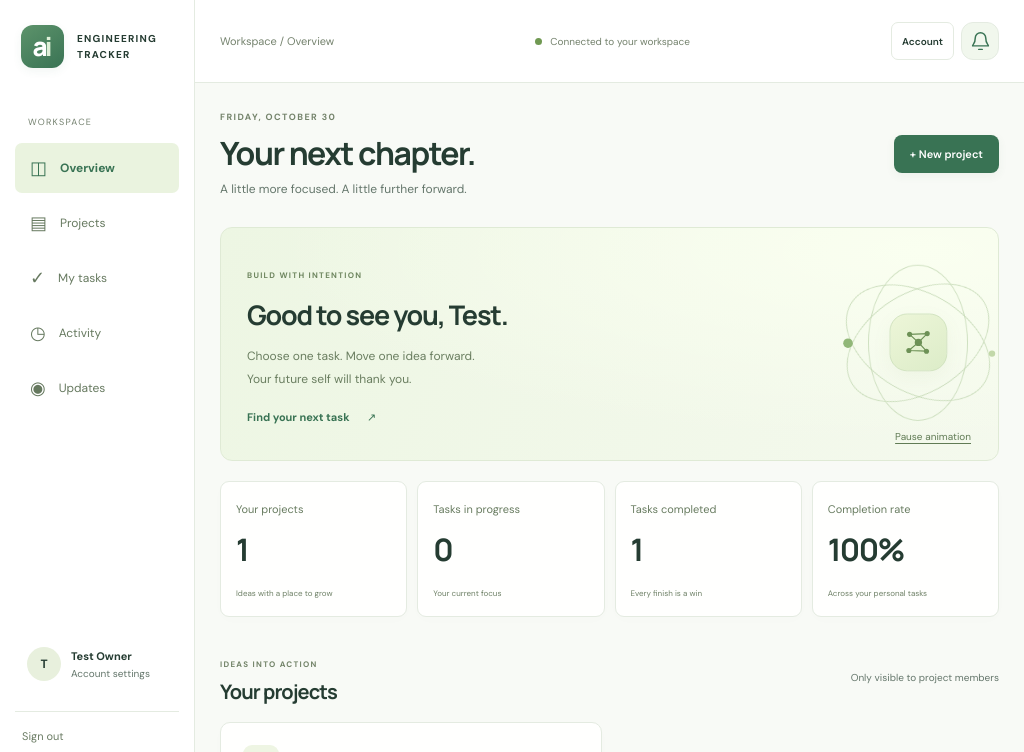
Test case: preserves animation controls, team view and task search
Click the button "Pause animation" at (933, 437), box [888,425,978,448]
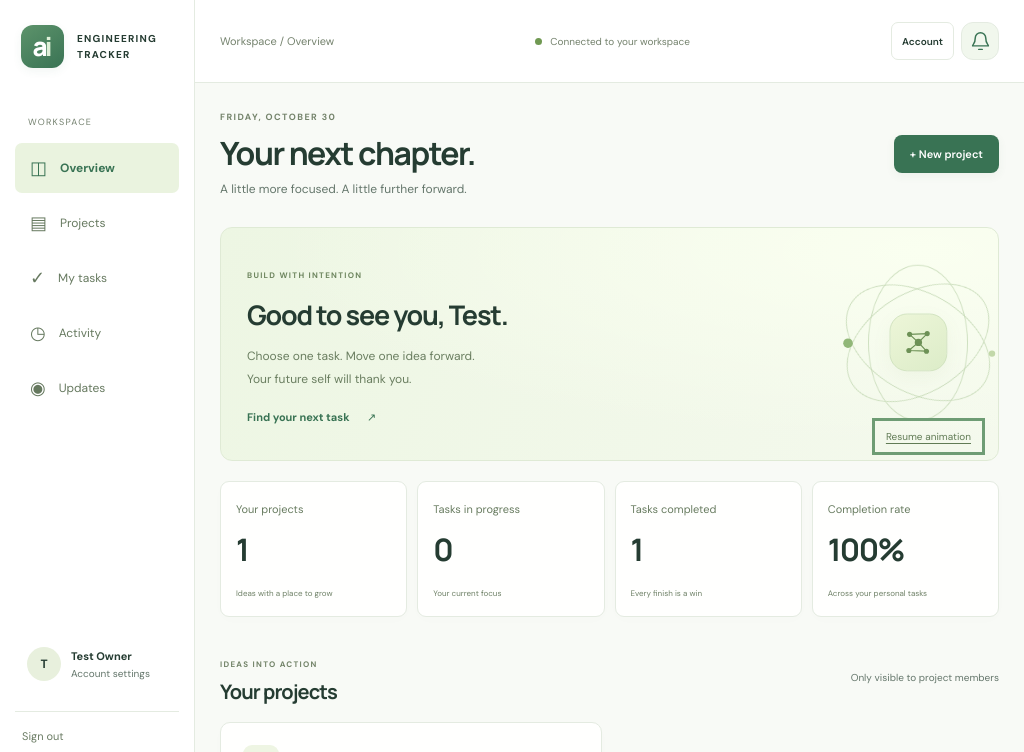
Check: the element with class "welcome-banner" has class "motion-paused", box [220,227,999,461]
Click the button "Resume animation" at (928, 437), box [879,425,978,448]
(page scrolled)
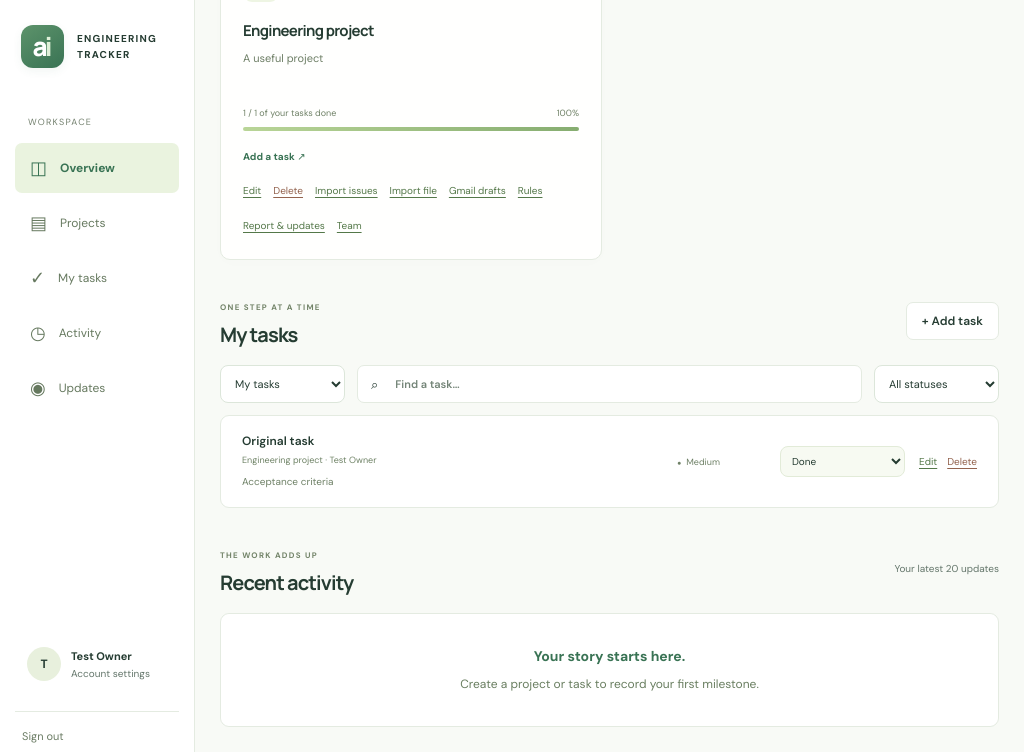
Select "Team tasks" in the 1st dropdown named "Task view" at (282, 384), box [220,365,345,403]
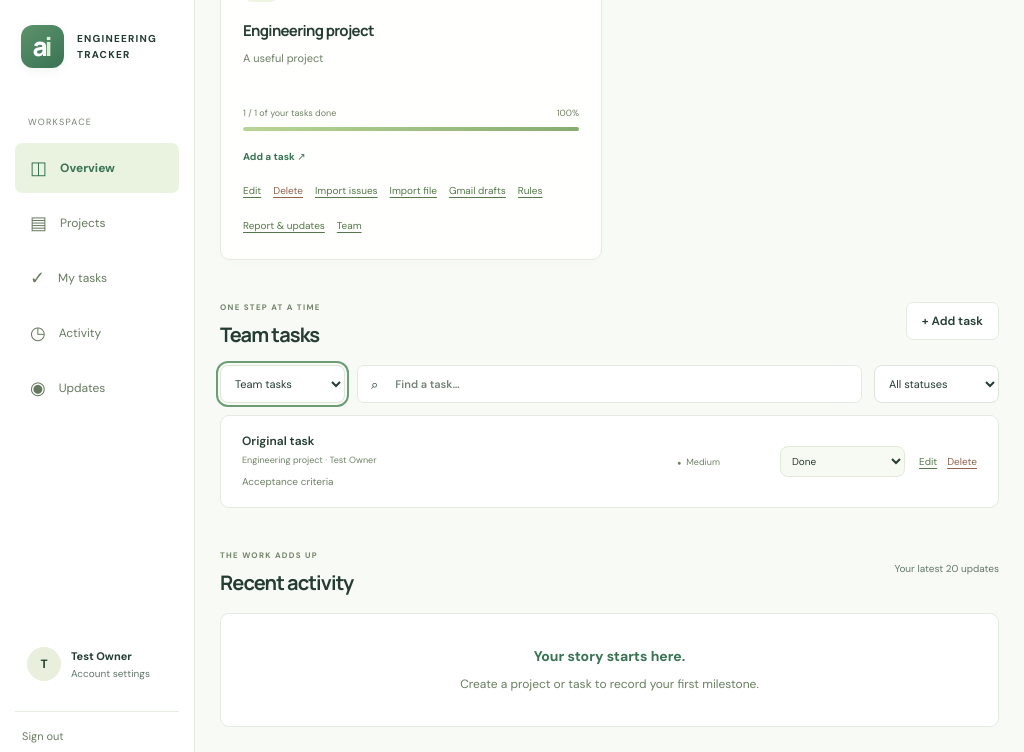
Check: the heading "Team tasks" is shown, box [220,321,321,348]
Type "no matching title" into the search field with placeholder "Find a task…" at (623, 384), box [384,366,861,402]
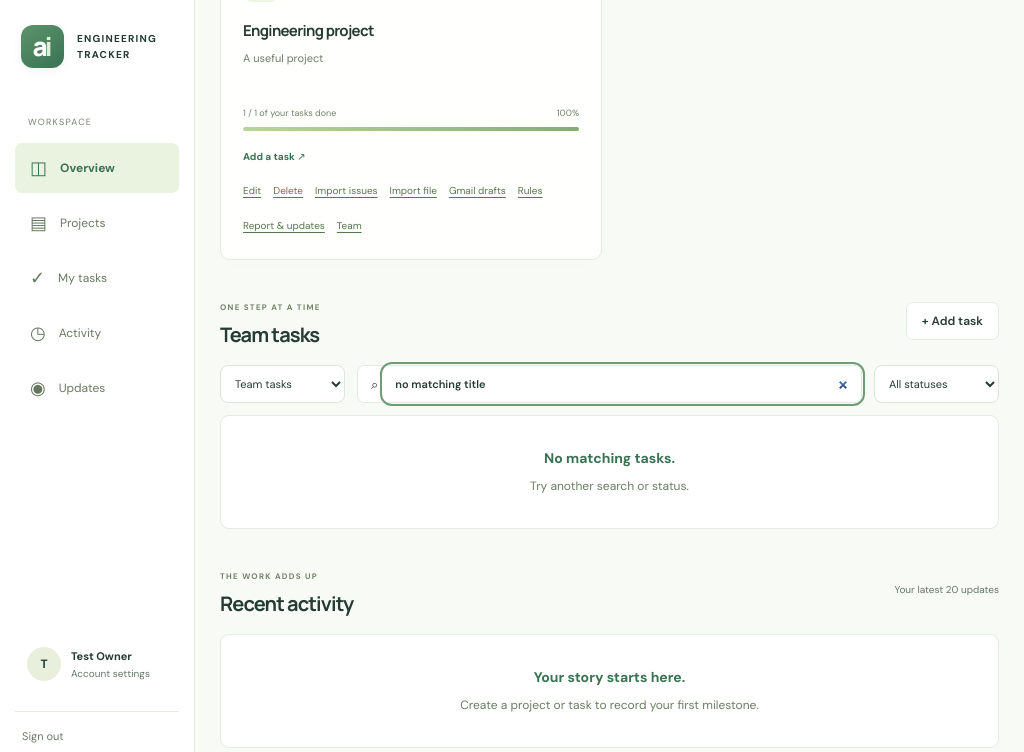
Check: the text "Original task" is gone
Check: the text "No matching tasks." is shown, box [544,449,675,467]
